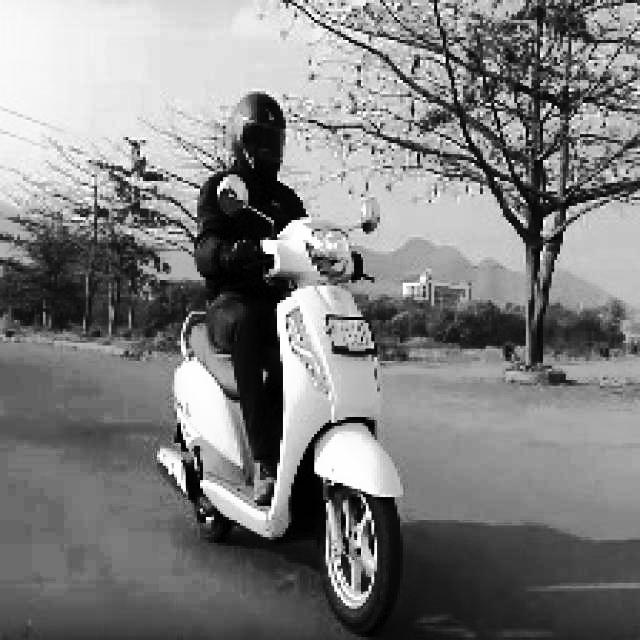Bike: (158, 198, 418, 626)
